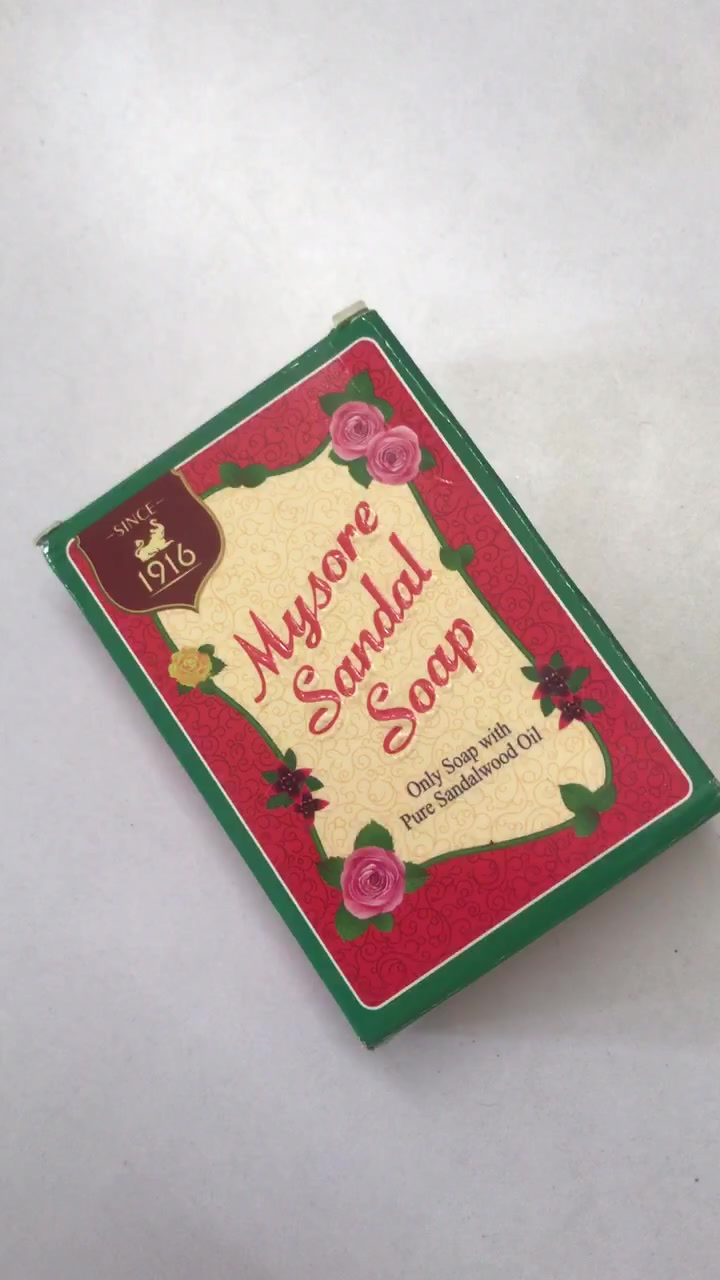mysore sandal soap: (44, 316, 720, 1053)
